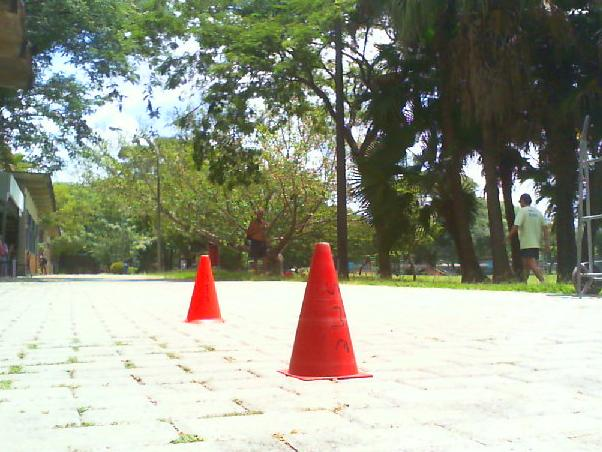0 cone: (277, 242, 373, 381), (183, 254, 225, 325)
